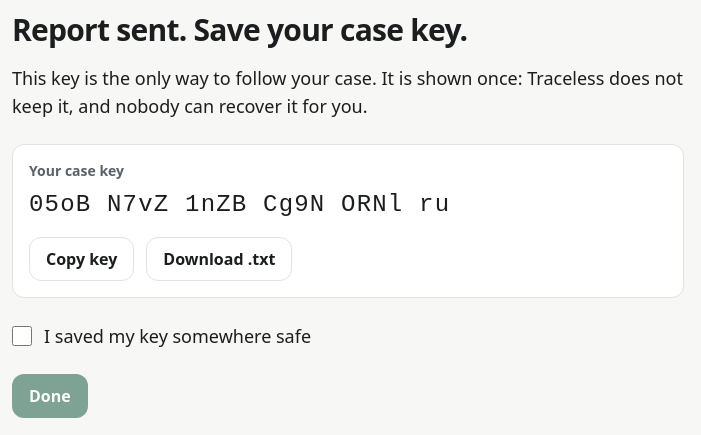
CaseKeyScreen › copies the bare key
The width and height of the screenshot is (701, 435).
Click the button "Copy key" at (82, 259), box top-left (29, 237), bottom-right (134, 281)
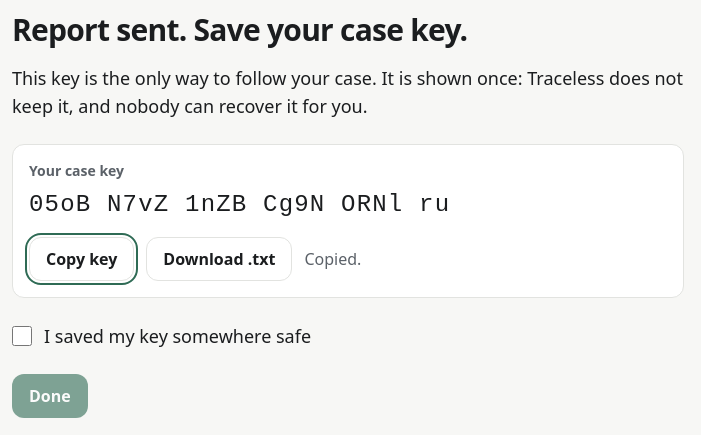
expect the text "Copied." is shown: met, box top-left (304, 247), bottom-right (361, 271)
